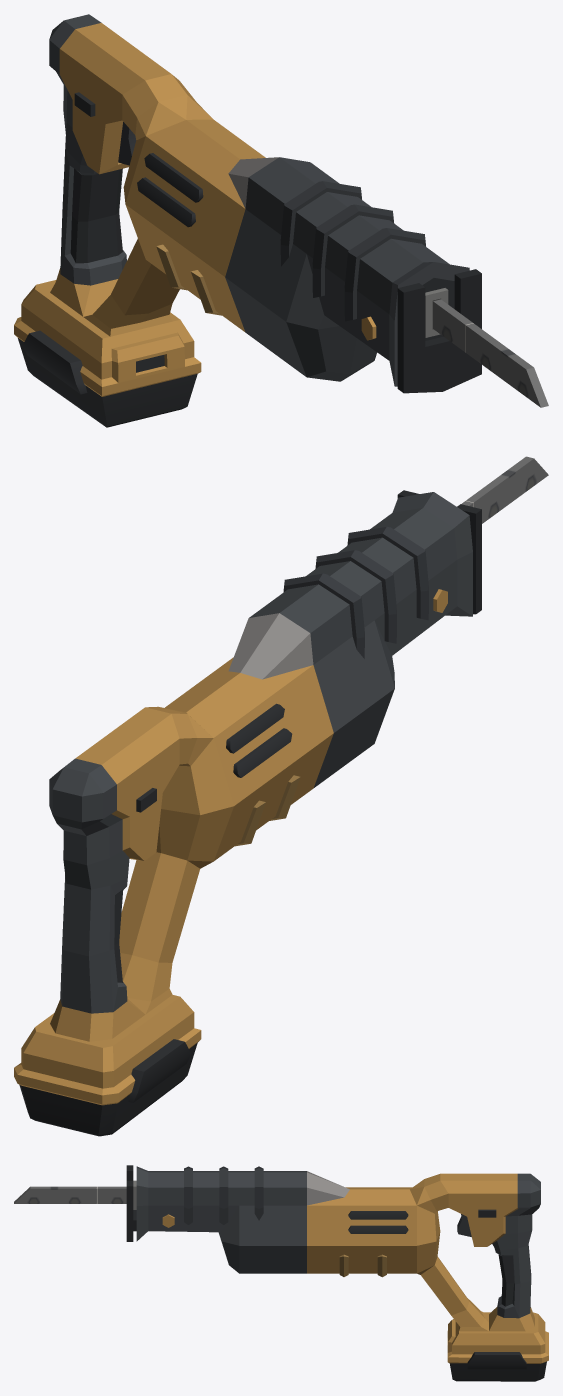
Rendered from SM_Tool_Saber_Saw_01.fbx.
3 views of the same model, one above another, from view 1: azimuth 30°, elevation 25°; view 2: azimuth 150°, elevation 25°; view 3: azimuth 270°, elevation 25° (orthographic). The views are drawn at different scales.
Visible parts, largest first — view 1: SM_Tool_Saber_Saw_01, SM_Tool_Saber_Saw_01_Battery, SM_Tool_Saber_Saw_01_Blade, SM_Tool_Saber_Saw_01_Trigger; view 2: SM_Tool_Saber_Saw_01, SM_Tool_Saber_Saw_01_Battery, SM_Tool_Saber_Saw_01_Blade; view 3: SM_Tool_Saber_Saw_01, SM_Tool_Saber_Saw_01_Battery, SM_Tool_Saber_Saw_01_Blade.
Part boxes in pixels (<box>): SM_Tool_Saber_Saw_01: <box>21,14,481,393</box>; SM_Tool_Saber_Saw_01_Battery: <box>14,317,201,427</box>; SM_Tool_Saber_Saw_01_Blade: <box>433,299,548,407</box>; SM_Tool_Saber_Saw_01_Trigger: <box>118,122,136,165</box>; SM_Tool_Saber_Saw_01: <box>21,490,481,1088</box>; SM_Tool_Saber_Saw_01_Battery: <box>14,1028,201,1136</box>; SM_Tool_Saber_Saw_01_Blade: <box>461,456,548,523</box>; SM_Tool_Saber_Saw_01: <box>126,1165,545,1354</box>; SM_Tool_Saber_Saw_01_Battery: <box>447,1319,548,1381</box>; SM_Tool_Saber_Saw_01_Blade: <box>14,1186,126,1203</box>.
Size of the model in its own units: 12.52 by 38.3 by 91.33.
